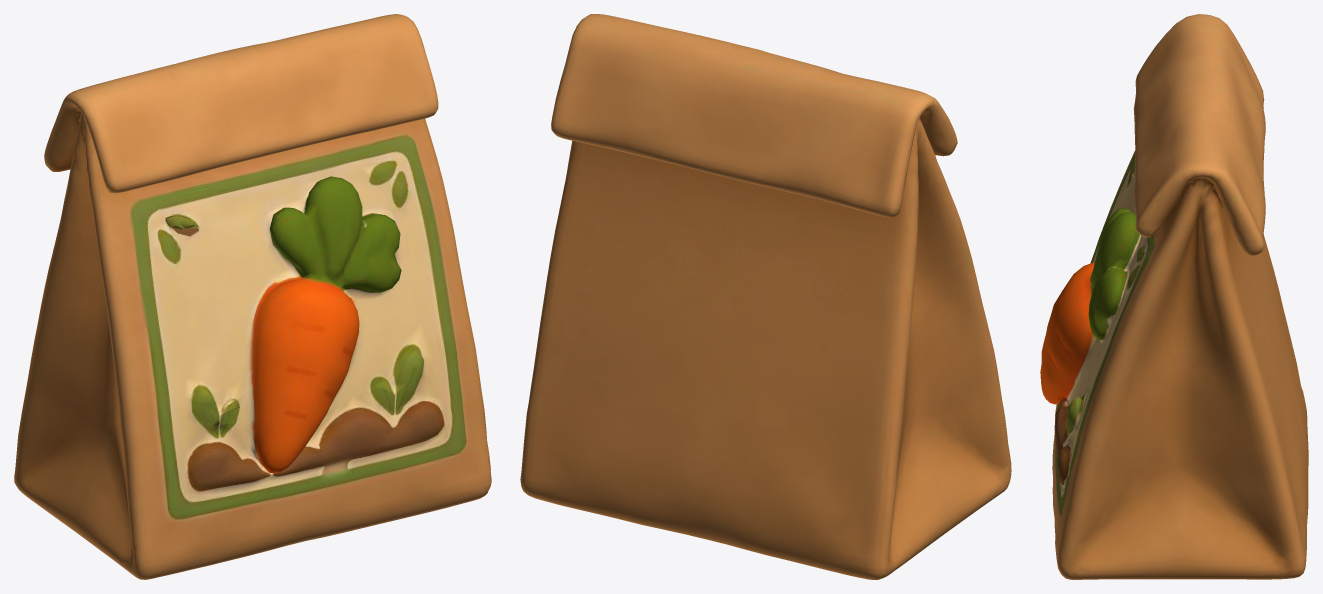
The picture shows the model from 3 angles, left to right: view 1: azimuth 30°, elevation 25°; view 2: azimuth 150°, elevation 25°; view 3: azimuth 270°, elevation 25°; orthographic projection. The views are drawn at different scales.
Visible parts, largest first — view 1: seed-carrot; view 2: seed-carrot; view 3: seed-carrot.
Boxes of the visible parts, <box> form: seed-carrot: <box>14,14,491,579</box>; seed-carrot: <box>520,14,1011,579</box>; seed-carrot: <box>1040,14,1308,579</box>.
Bounding box in the file's own units: 0.1275 × 0.15 × 0.0874.
1 material, 1 textured.
